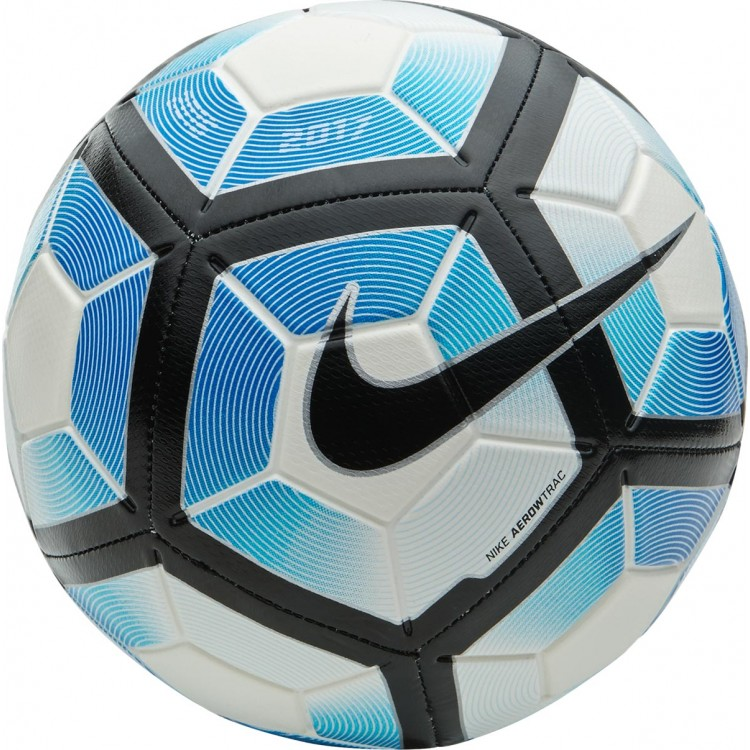Nonrec_Plastic: (7, 12, 743, 732)
